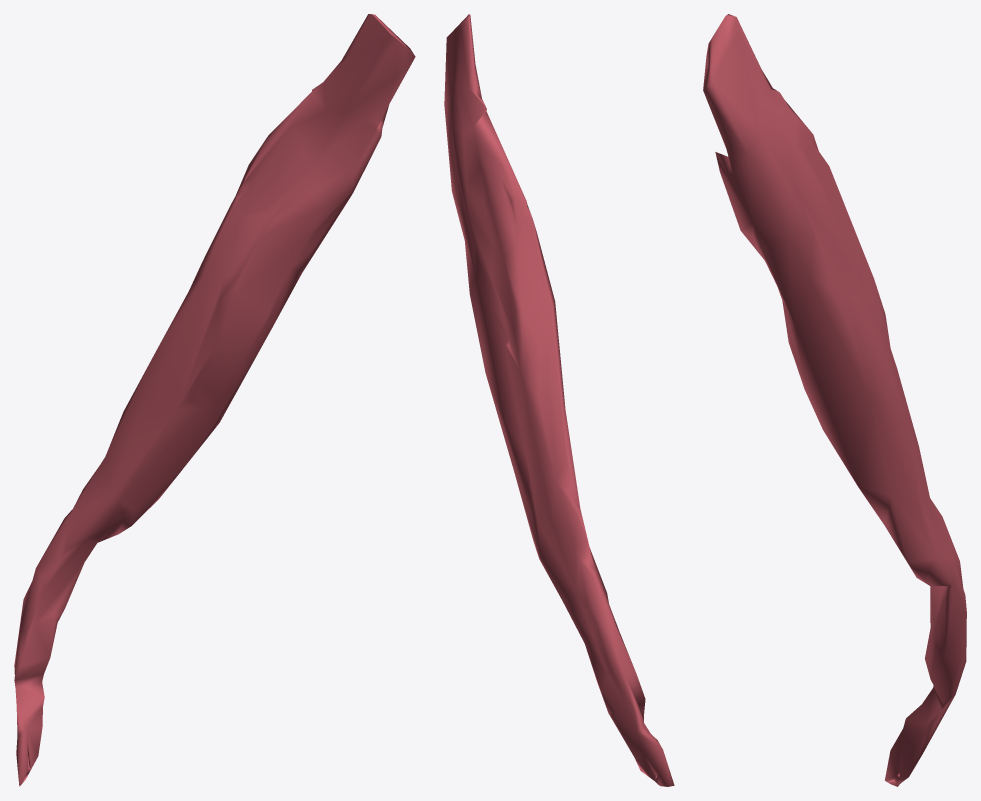
3 views of the same model, side by side, from view 1: azimuth 30°, elevation 25°; view 2: azimuth 150°, elevation 25°; view 3: azimuth 270°, elevation 25° (orthographic). The views are drawn at different scales.
Parts seen in each view (by area): view 1: 右侧小趾短屈肌; view 2: 右侧小趾短屈肌; view 3: 右侧小趾短屈肌.
Part boxes in pixels (x1,y1,x2,y2): 右侧小趾短屈肌: (14,14,415,786); 右侧小趾短屈肌: (444,14,674,786); 右侧小趾短屈肌: (703,14,966,786).
Bounding box in the file's own units: 0.0487 × 0.1072 × 0.0271.
